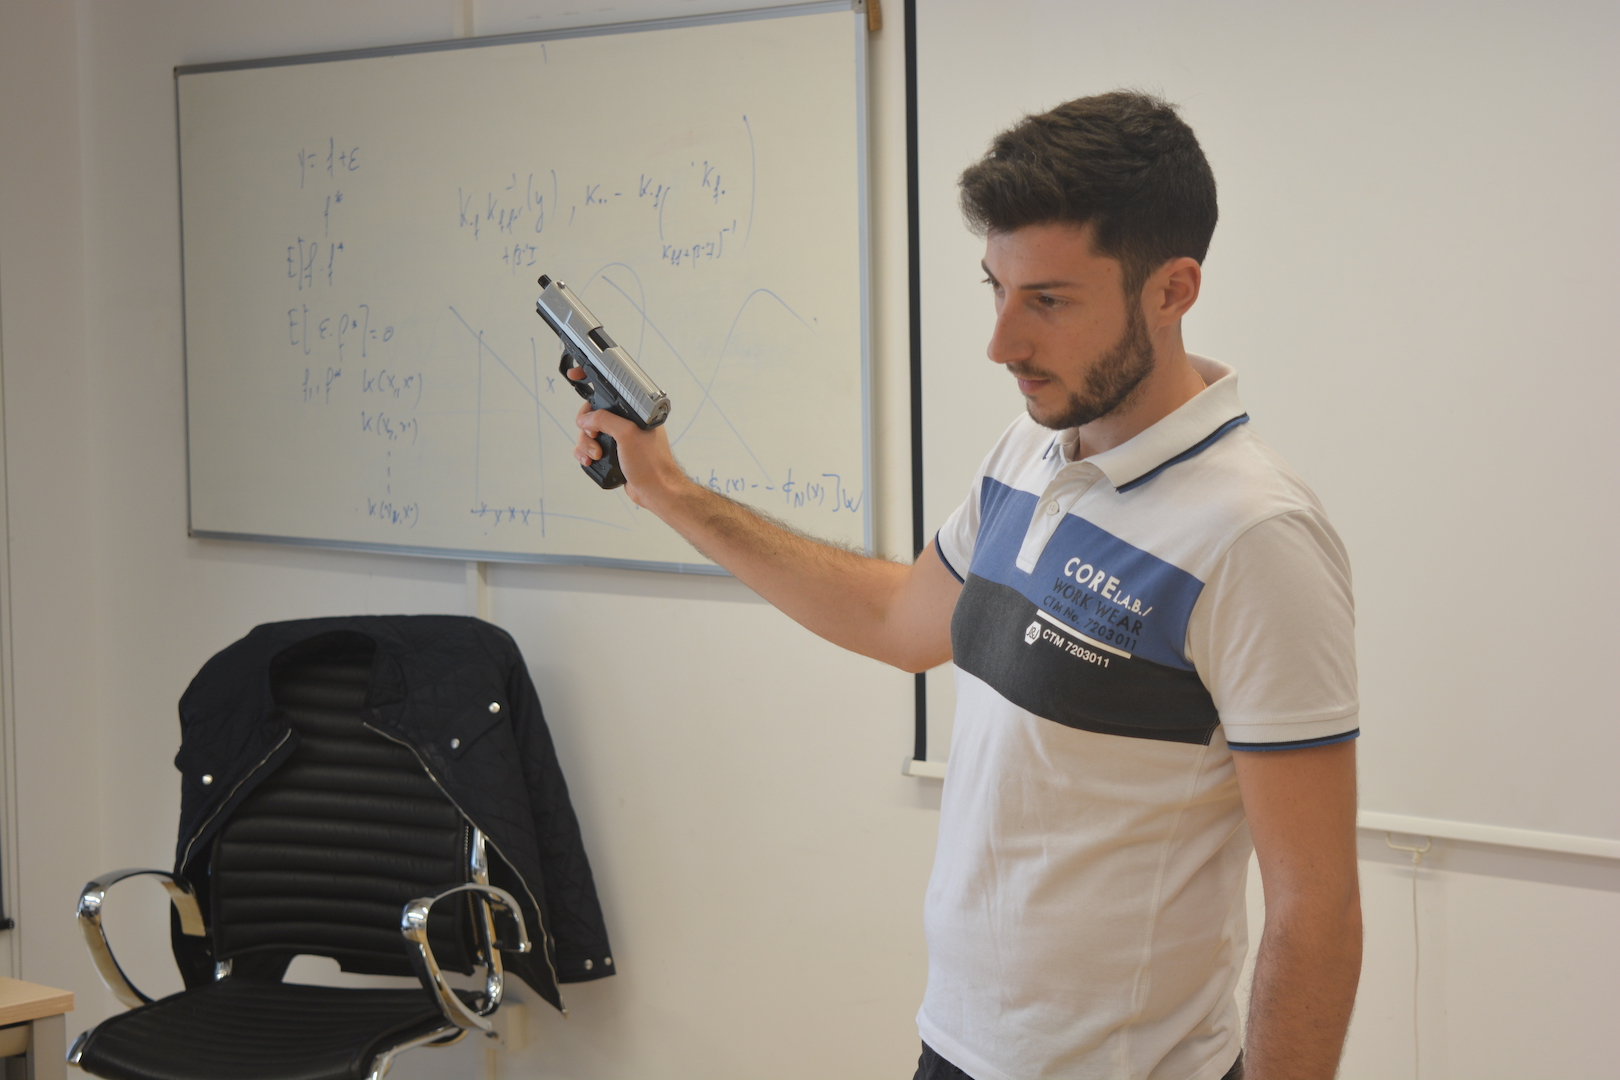pistol: (535, 274, 673, 492)
